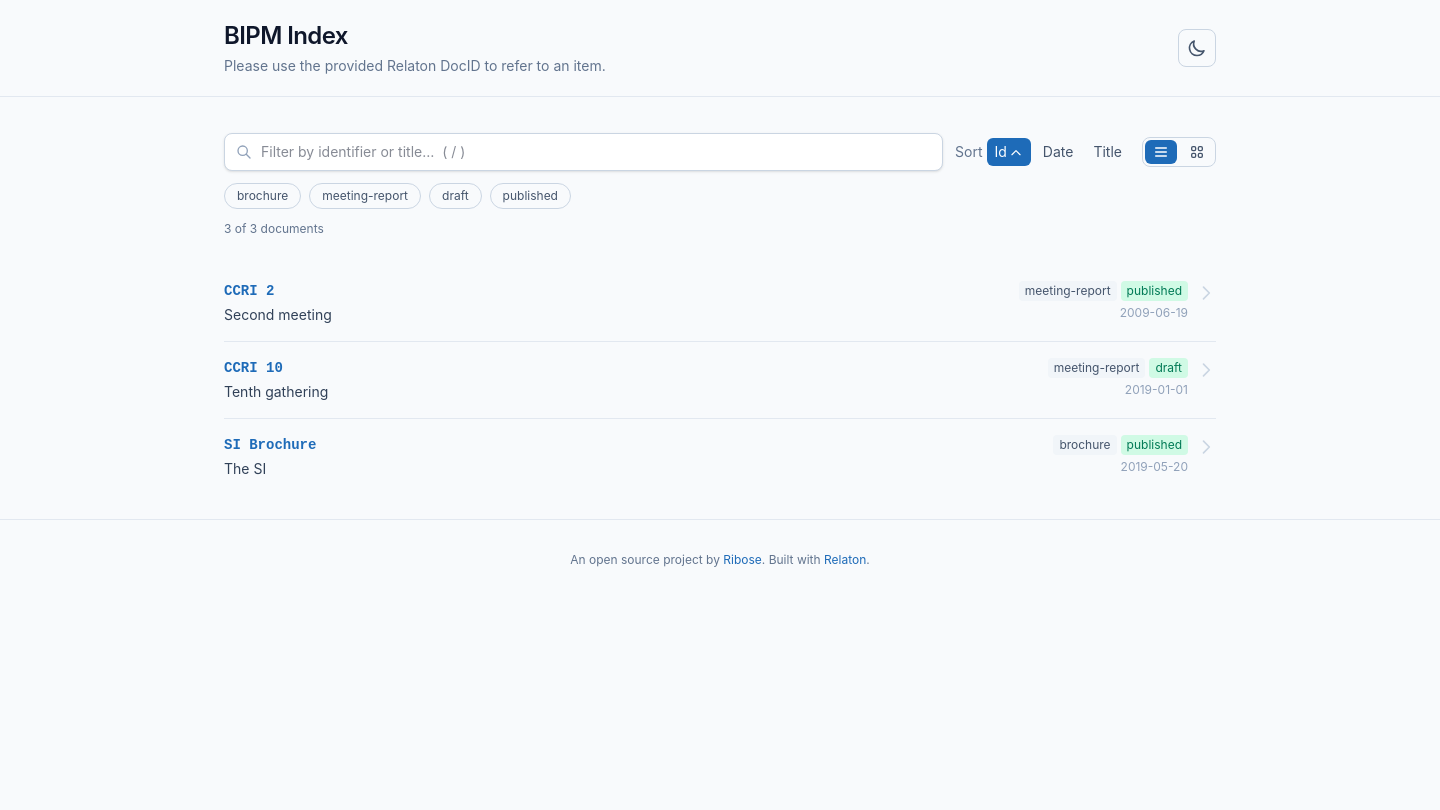
Test: relations on the detail page › leaves a target outside the dataset unlinked but visible
Click the link "CCRI 2".
click(249, 291)  # box 224,283 -> 274,299
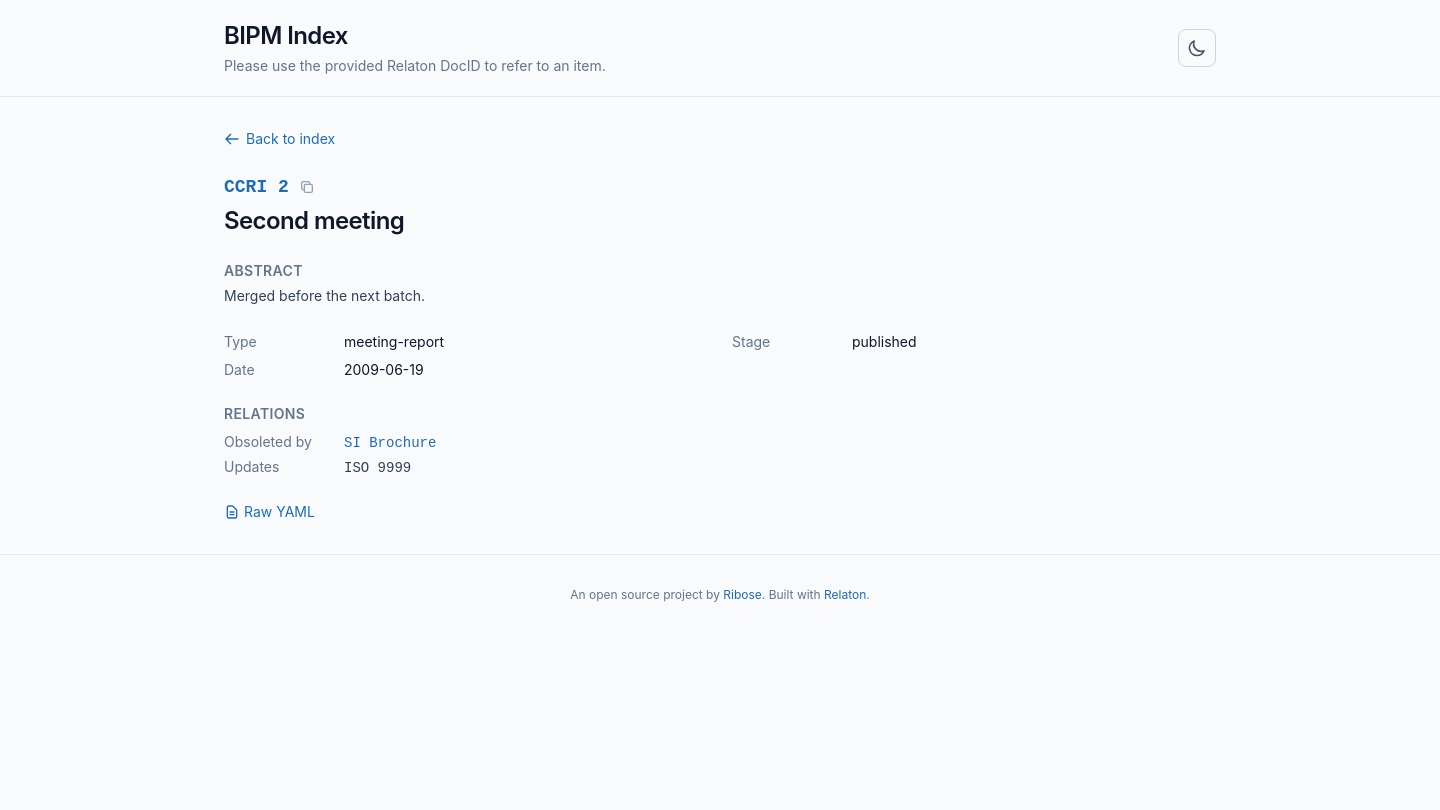
expect the link does not show "ISO 9999": met
expect the text "ISO 9999" is shown: met, box 344,458 -> 411,478
